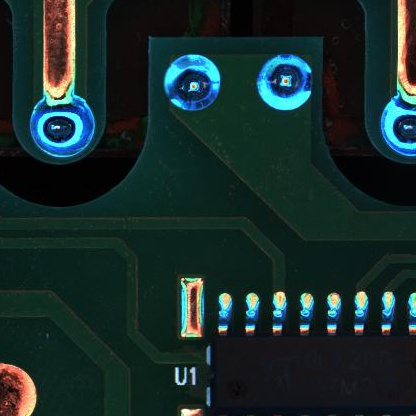spot: (27, 95, 96, 158), (163, 53, 222, 113), (256, 53, 314, 112), (381, 90, 416, 155)
